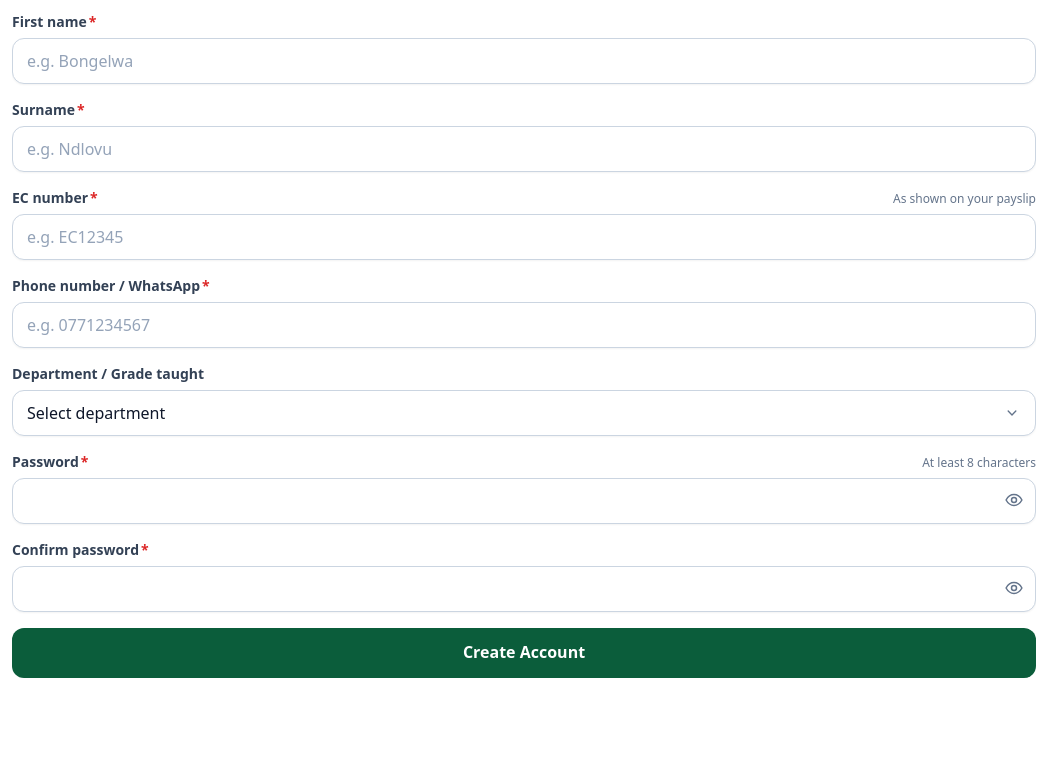
Scenario: SignupForm › shows plain language errors for an empty submit
Click the button "Create Account" at x=524, y=653, box [12,628,1036,678]
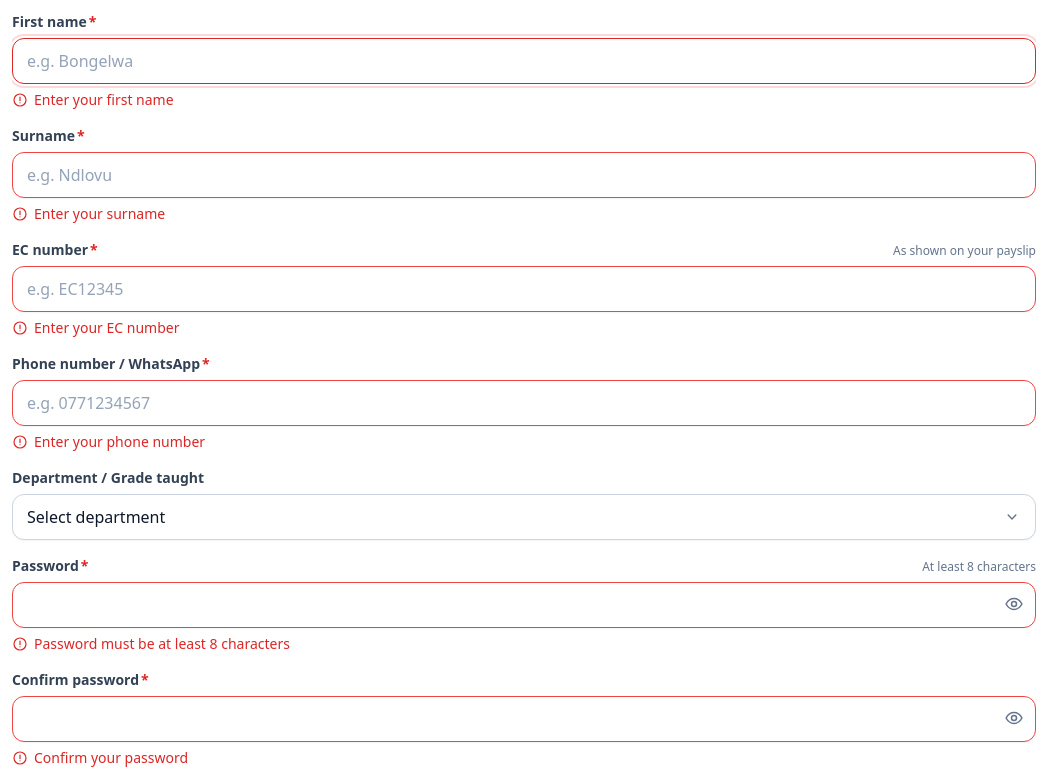
Result: the text "Enter your first name" is shown at [34,90,174,110]
Result: the text "Enter your surname" is shown at [34,204,165,224]
Result: the text "Enter your EC number" is shown at [34,318,180,338]
